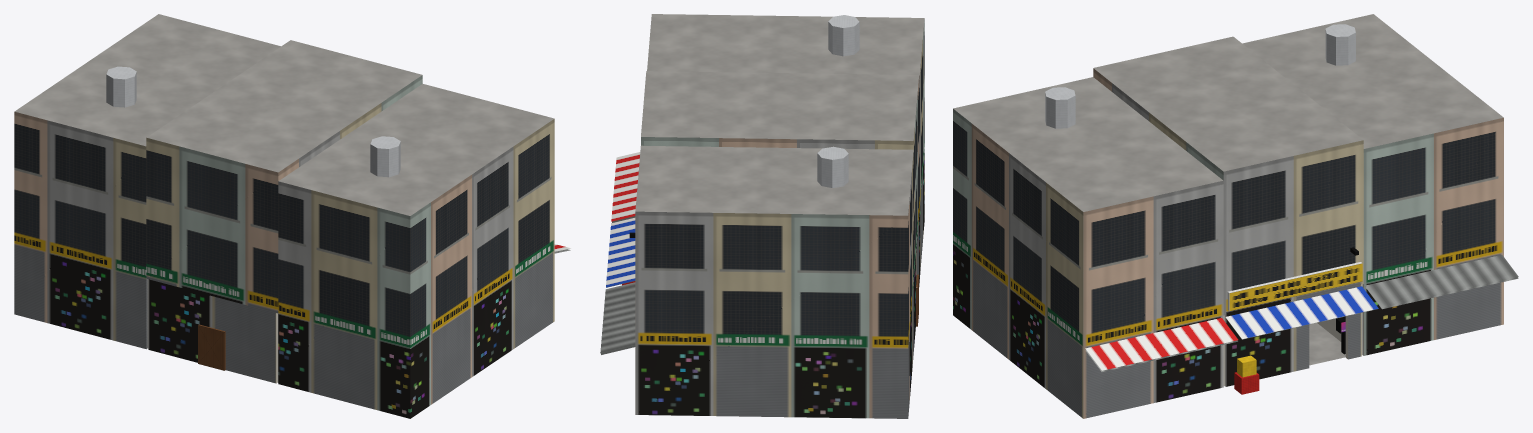
File: QL_WeaponShop.fbx
The picture shows the model from 3 angles, left to right: view 1: azimuth 30°, elevation 25°; view 2: azimuth 150°, elevation 25°; view 3: azimuth 270°, elevation 25°; orthographic projection.
Parts seen in each view (by area): view 1: WeaponShop_Neighbors, WeaponShop_UpperFloors, WeaponShop_Walls, WeaponShop_BackDoor; view 2: WeaponShop_Neighbors, WeaponShop_UpperFloors, WeaponShop_Awning, WeaponShop_Walls; view 3: WeaponShop_Neighbors, WeaponShop_UpperFloors, WeaponShop_Walls, WeaponShop_Awning, WeaponShop_ShopSign, WeaponShop_Floor, WeaponShop_Crates.
Boxes of the visible parts, box(x1,y1,x2,y2) form: WeaponShop_Neighbors: box(14, 14, 570, 418); WeaponShop_UpperFloors: box(146, 40, 422, 313); WeaponShop_Walls: box(147, 279, 278, 383); WeaponShop_BackDoor: box(198, 324, 225, 370); WeaponShop_Neighbors: box(600, 14, 924, 418); WeaponShop_UpperFloors: box(641, 71, 919, 280); WeaponShop_Awning: box(606, 218, 635, 287); WeaponShop_Walls: box(913, 221, 918, 351); WeaponShop_Neighbors: box(953, 14, 1518, 418); WeaponShop_UpperFloors: box(1093, 36, 1363, 315); WeaponShop_Walls: box(1223, 284, 1362, 386); WeaponShop_Awning: box(1225, 286, 1378, 339); WeaponShop_ShopSign: box(1227, 262, 1362, 311); WeaponShop_Floor: box(1309, 323, 1345, 365); WeaponShop_Crates: box(1234, 355, 1259, 394).
Size of the model in its own units: 25.17 by 13.1 by 28.52.
